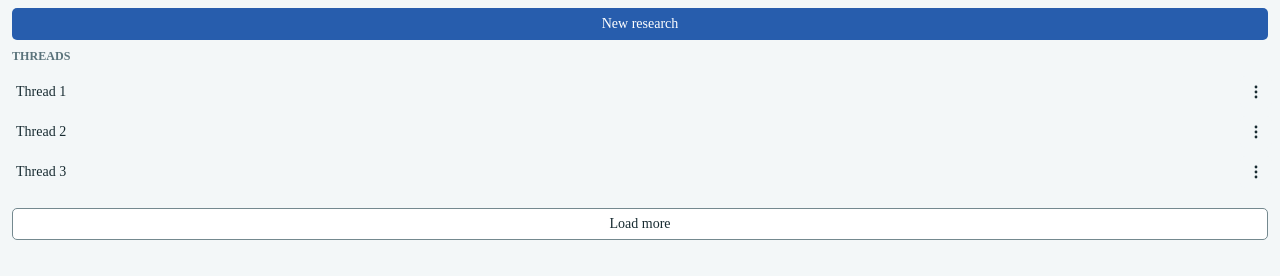
criterion 7 — Load more appears only when a page came back full › pages by limit, and stops offering when the page is short
Check: the link "Thread 1" is shown, box [16,84,66,99]
Click the button "Load more" at (640, 224), box [12,208,1268,240]
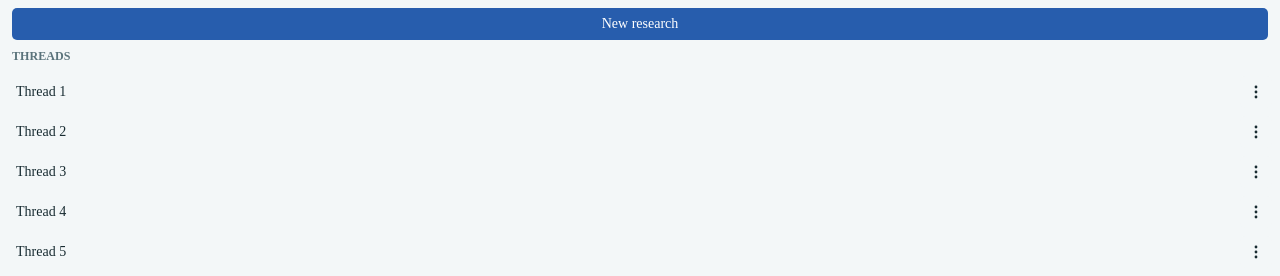
Check: the link "Thread 4" is shown, box [16,204,66,219]
Check: the button "Load more" is gone
